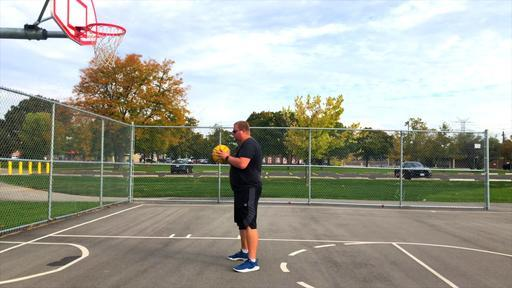ball: (212, 144, 231, 162)
human: (214, 121, 262, 273)
rim: (86, 24, 126, 64)
